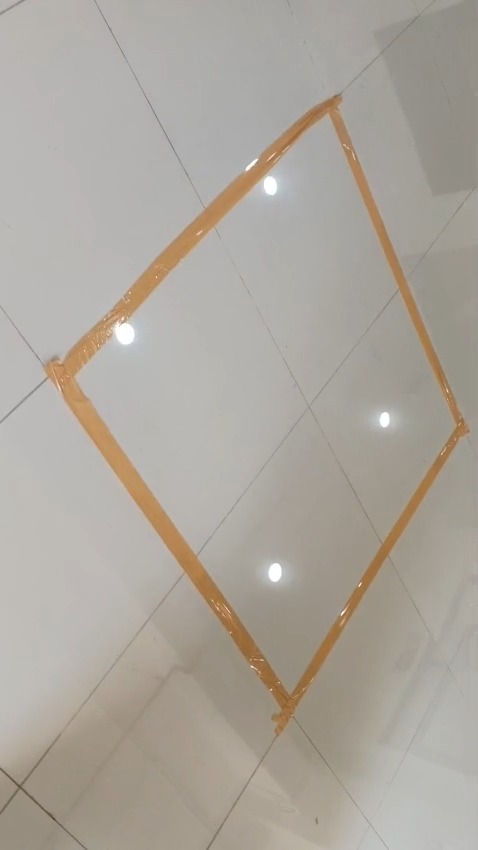floor marking: (45, 94, 468, 734)
